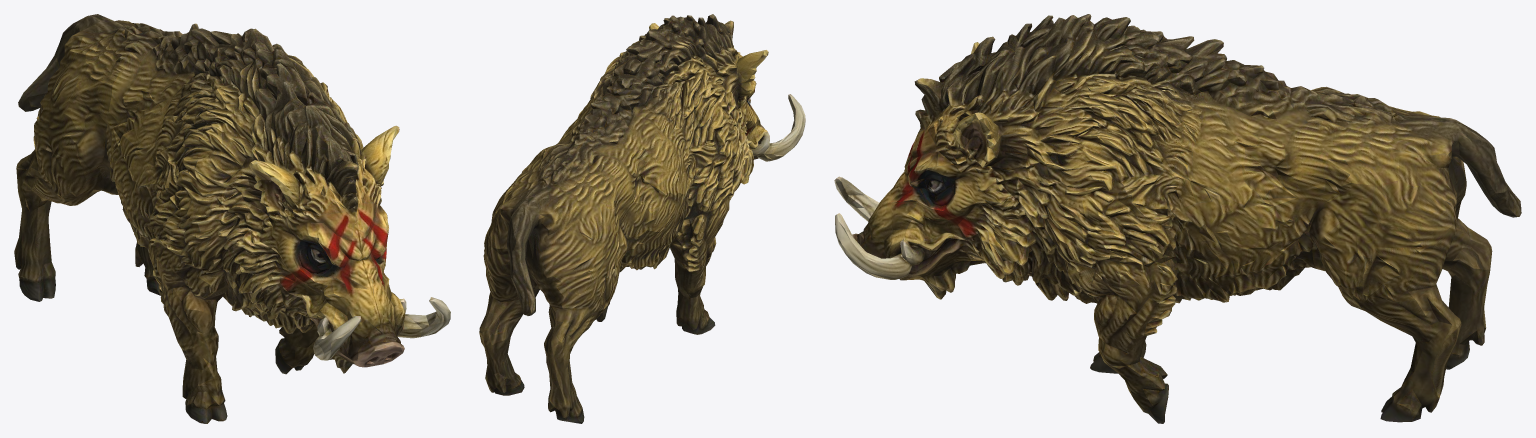
Rendered from warhog.glb.
3 renders of one model, left to right at view 1: azimuth 30°, elevation 25°; view 2: azimuth 150°, elevation 25°; view 3: azimuth 270°, elevation 25°, orthographic. The views are drawn at different scales.
Visible parts, largest first — view 1: output_unwrapped; view 2: output_unwrapped; view 3: output_unwrapped.
Part boxes in pixels (<box>): output_unwrapped: <box>14,14,450,423</box>; output_unwrapped: <box>479,14,805,423</box>; output_unwrapped: <box>834,14,1521,423</box>.
Bounding box in the file's own units: 0.6248 × 1.15 × 1.9.
1 material, 1 textured.
